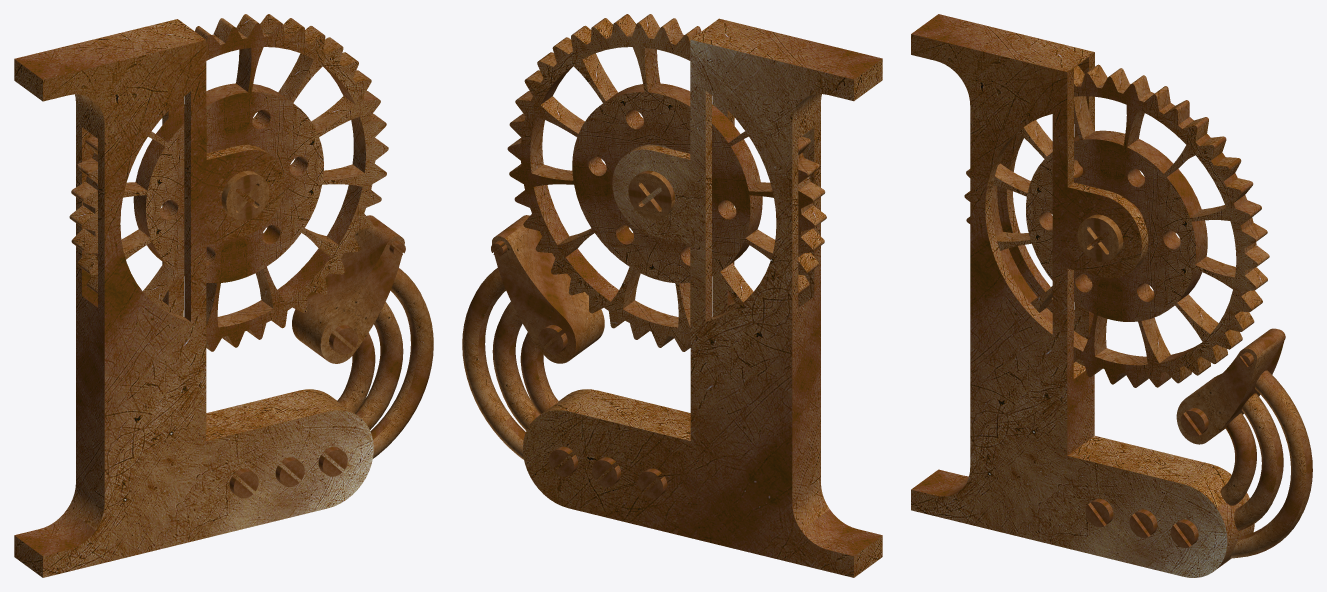
3 renders of one model, left to right at view 1: azimuth 30°, elevation 25°; view 2: azimuth 150°, elevation 25°; view 3: azimuth 330°, elevation 25°, orthographic. The views are drawn at different scales.
Parts seen in each view (by area): view 1: B, Cogwheel_308, Tube_516, Tube_517, Screw_531, Screw_612, Screw_610, Screw_630, Screw_628; view 2: B, Cogwheel_308, Tube_516, Tube_517, Screw_531, Screw_612, Screw_610, Screw_630, Screw_628; view 3: B, Cogwheel_308, Tube_517, Tube_516, Screw_531, Screw_612, Screw_610, Screw_628, Screw_630.
Part boxes in pixels (left/top/right/bottom): B: left=14, top=19, right=404, bottom=577; Cogwheel_308: left=69, top=14, right=388, bottom=351; Tube_516: left=370, top=268, right=433, bottom=458; Tube_517: left=337, top=302, right=403, bottom=429; Screw_531: left=221, top=171, right=269, bottom=220; Screw_612: left=229, top=468, right=258, bottom=498; Screw_610: left=275, top=457, right=304, bottom=487; Screw_630: left=329, top=325, right=358, bottom=354; Screw_628: left=318, top=447, right=347, bottom=476; B: left=492, top=18, right=882, bottom=577; Cogwheel_308: left=507, top=14, right=826, bottom=351; Tube_516: left=462, top=268, right=525, bottom=459; Tube_517: left=492, top=301, right=558, bottom=430; Screw_531: left=628, top=170, right=675, bottom=219; Screw_612: left=638, top=468, right=667, bottom=498; Screw_610: left=592, top=457, right=621, bottom=487; Screw_630: left=538, top=325, right=567, bottom=354; Screw_628: left=549, top=446, right=578, bottom=476; B: left=911, top=14, right=1284, bottom=577; Cogwheel_308: left=964, top=64, right=1269, bottom=387; Tube_517: left=1220, top=393, right=1283, bottom=530; Tube_516: left=1230, top=370, right=1312, bottom=558; Screw_531: left=1077, top=201, right=1144, bottom=262; Screw_612: left=1085, top=498, right=1113, bottom=527; Screw_610: left=1129, top=509, right=1157, bottom=537; Screw_628: left=1170, top=519, right=1198, bottom=547; Screw_630: left=1180, top=408, right=1208, bottom=436.
Bounding box in the file's own units: 81.27 × 95.73 × 13.08.
1 material, 1 textured.
